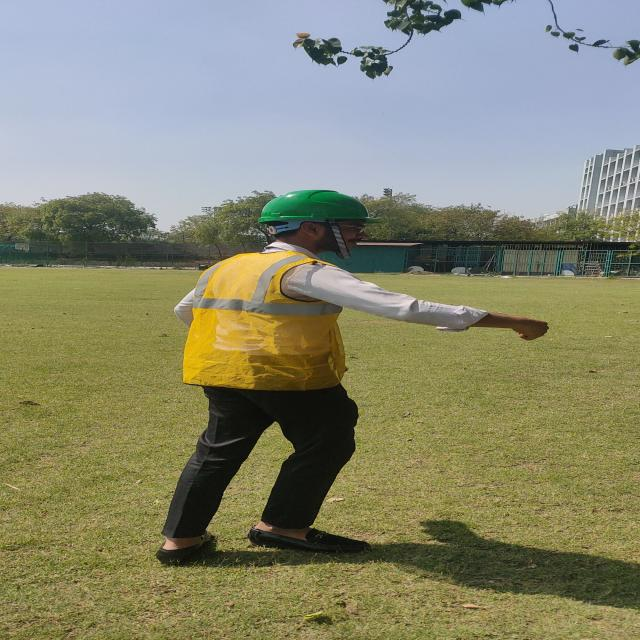safe: (168, 190, 387, 564)
